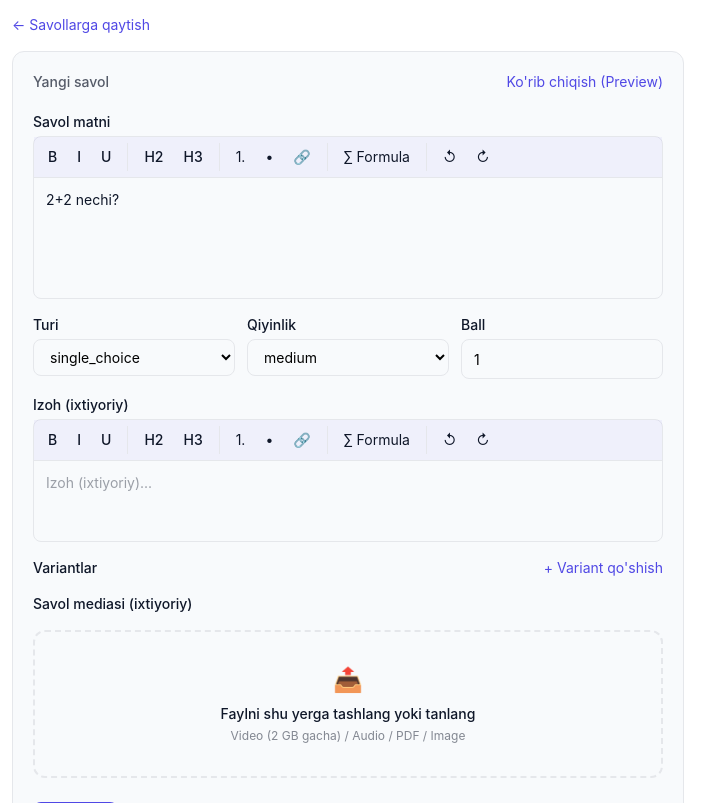
QuestionFormPage — conditional option-set validation (approved decision 7) › toggles into Preview mode and shows the live question text, not fake data
Click the button "Ko'rib chiqish (Preview)" at (585, 82), box [506,72,663,92]
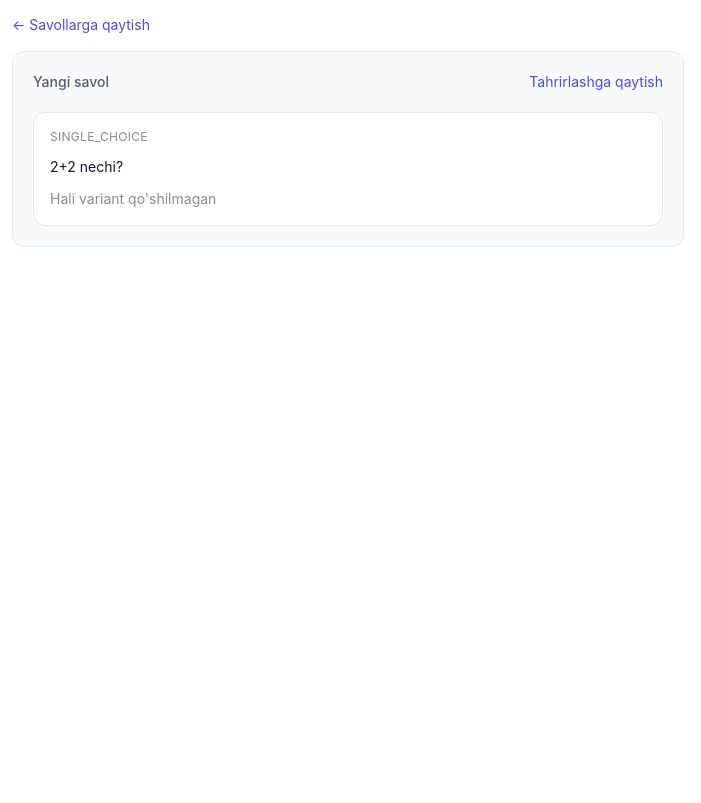
Expected: the text "2+2 nechi?" is shown, [50,158,123,175]
Expected: the button "Tahrirlashga qaytish" is shown, [529,72,663,92]
